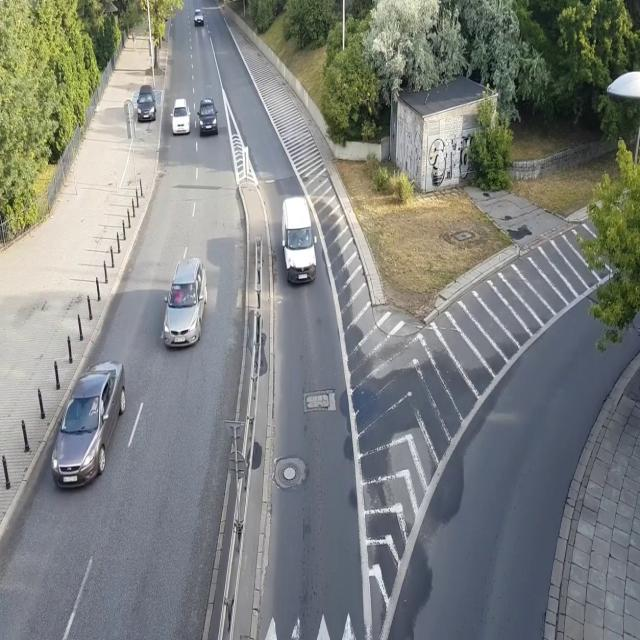car: (51, 359, 128, 490), (162, 256, 208, 350), (198, 97, 218, 137), (171, 96, 191, 134), (136, 86, 156, 121), (193, 8, 205, 28)
van: (280, 197, 318, 286)
